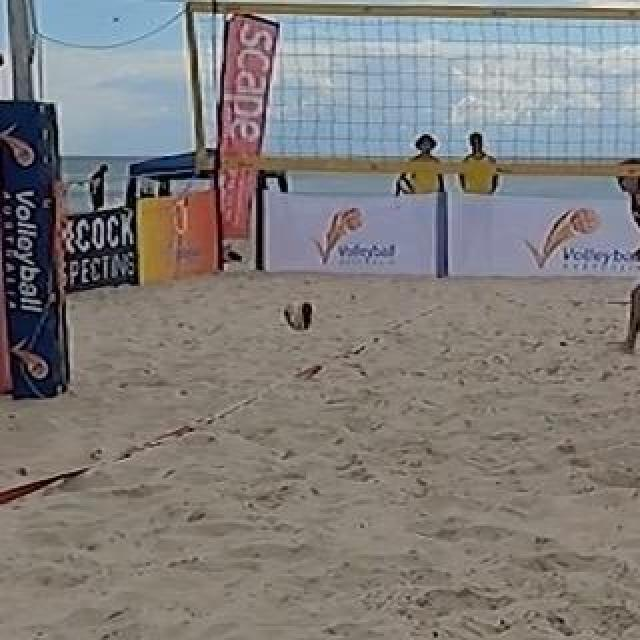volleyball: (283, 299, 315, 333)
